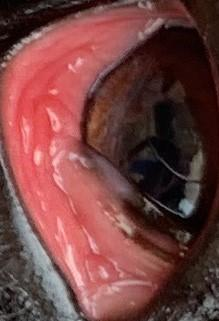eye_membrane: (2, 4, 184, 318)
